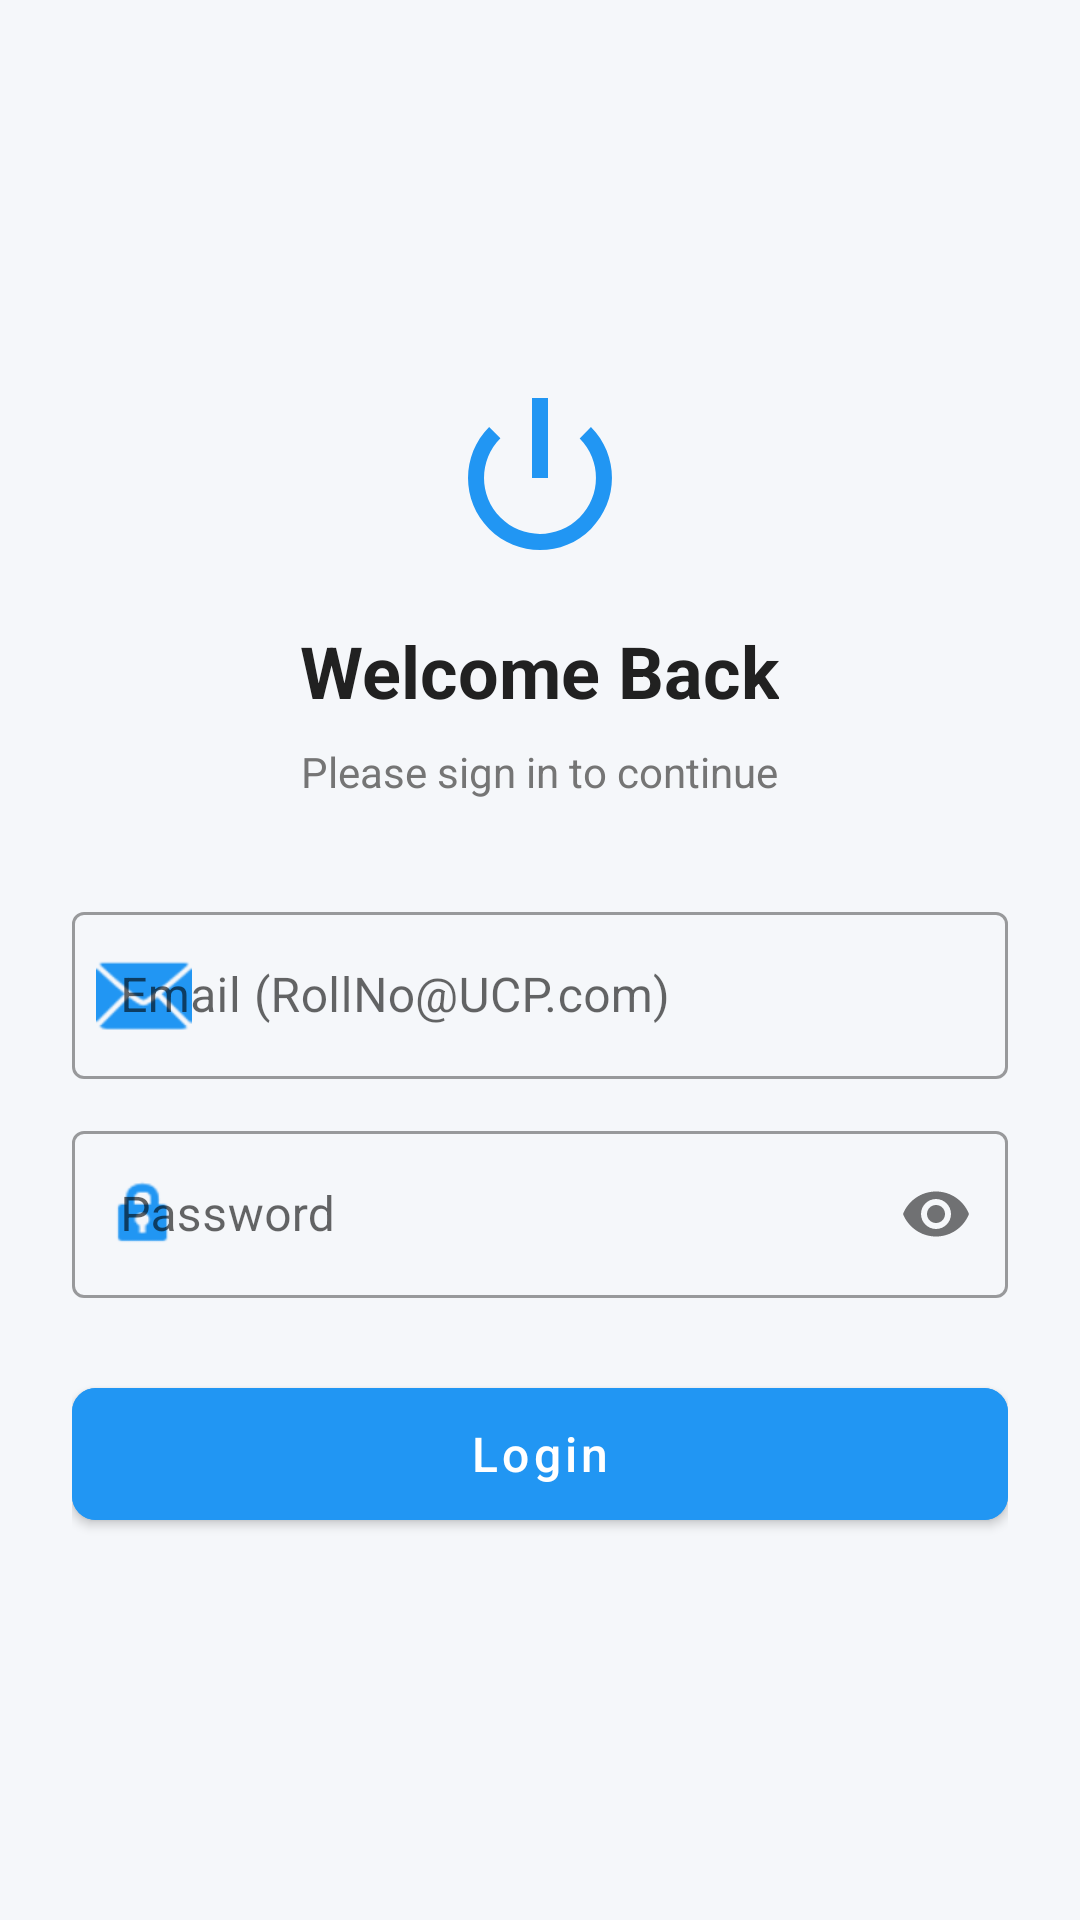

Screen size 1080px x 1920px. Icon name, then its center in pixels as (x,y):
Login Icon: (540,474)
